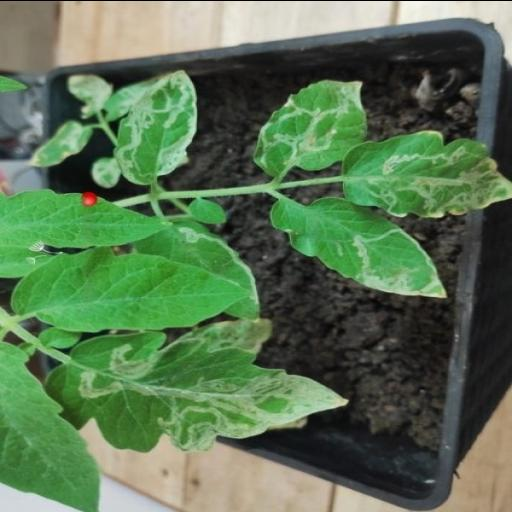disease_tomato: (40, 332, 352, 450), (270, 196, 448, 298), (340, 129, 512, 219), (251, 78, 372, 176), (112, 68, 200, 184)
